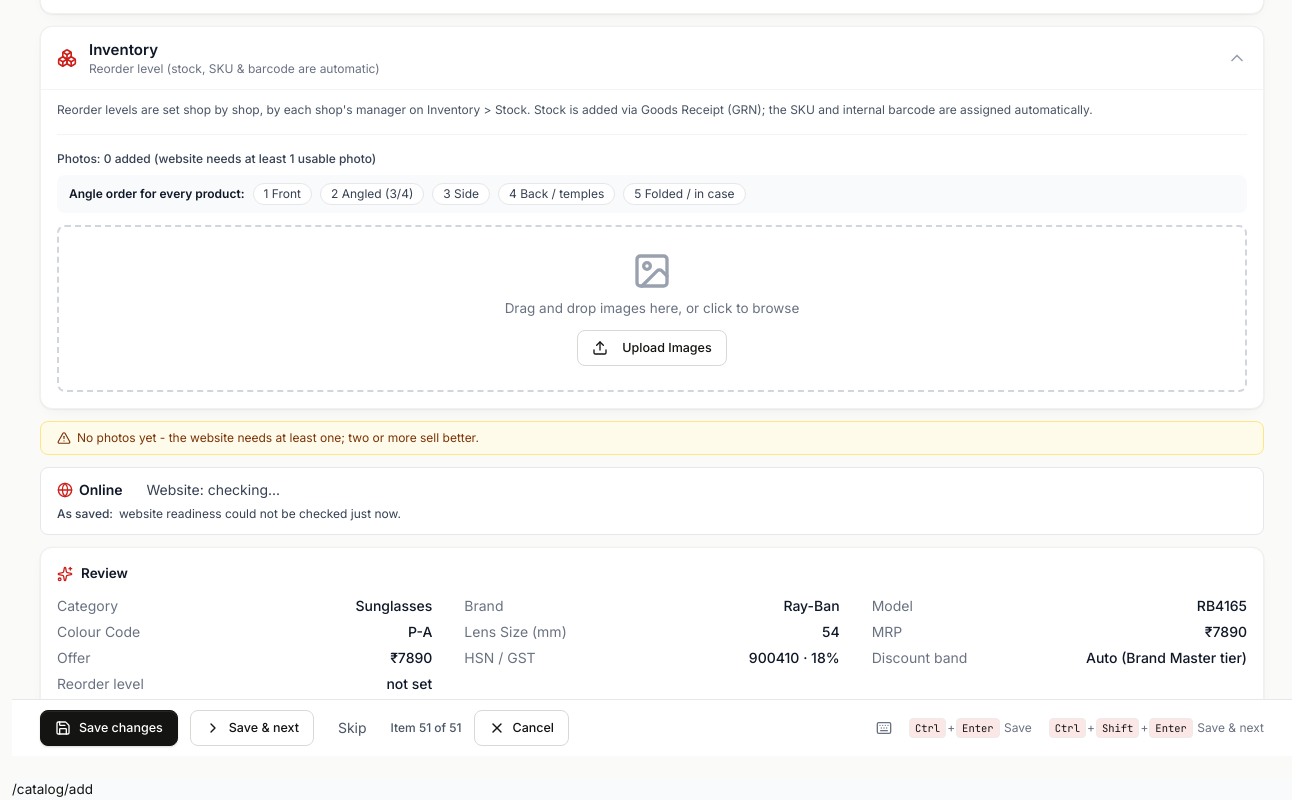
Scenario: Save & next: review fixes (PR #1267) › from Save & next until the next product is in the form, nothing can be saved
(page scrolled)
Expected: the text "Item 51 of 51" is shown, [391, 720, 462, 736]
Click the button "Save & next" at (252, 728), box [190, 710, 314, 746]
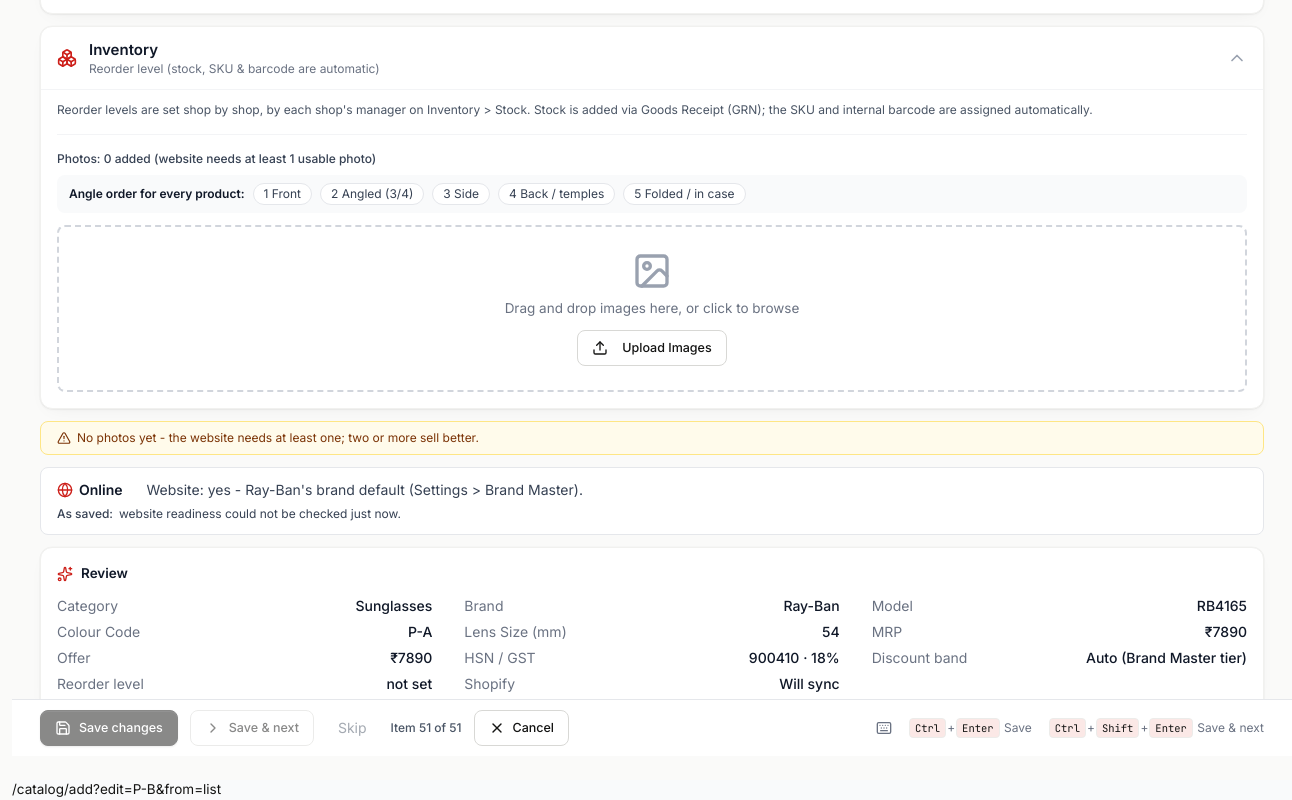
Now the button "Save changes" is disabled, box [40, 710, 178, 746]
Now the button "Save & next" is disabled, box [190, 710, 314, 746]
Press Enter
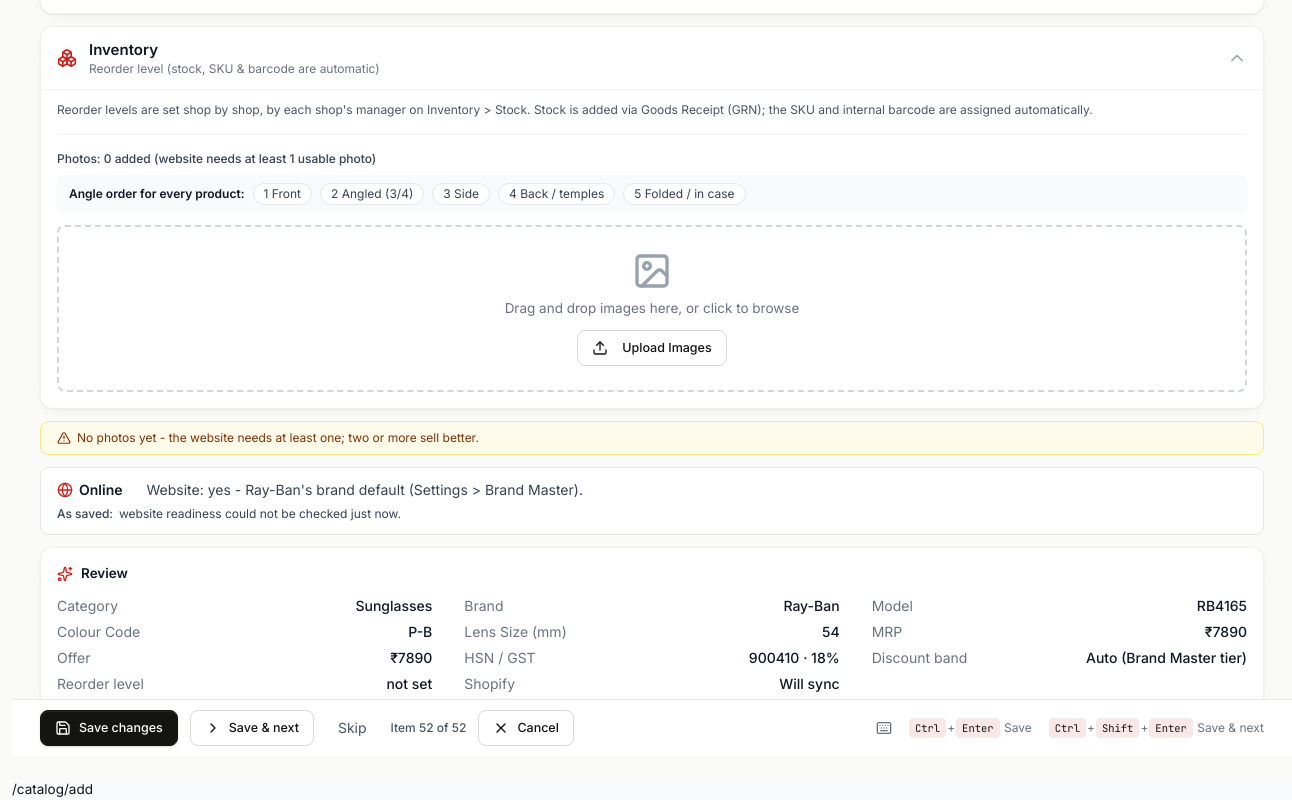
Now the text "Item 52 of 52" is shown, box [391, 720, 466, 736]
Now the button "Save changes" is enabled, box [40, 710, 178, 746]
